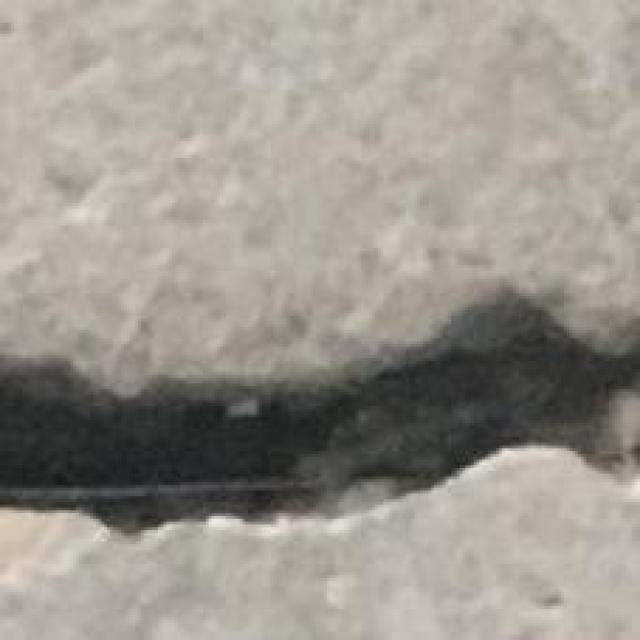Crack: (3, 282, 640, 538)
